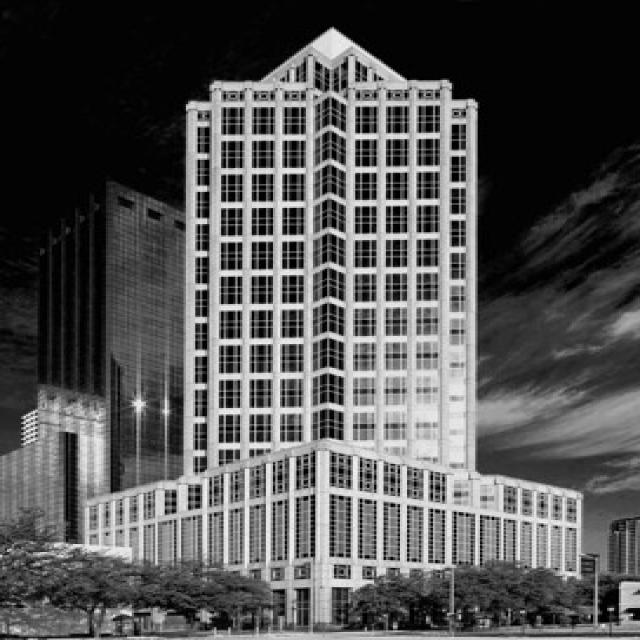building: (179, 20, 485, 580)
